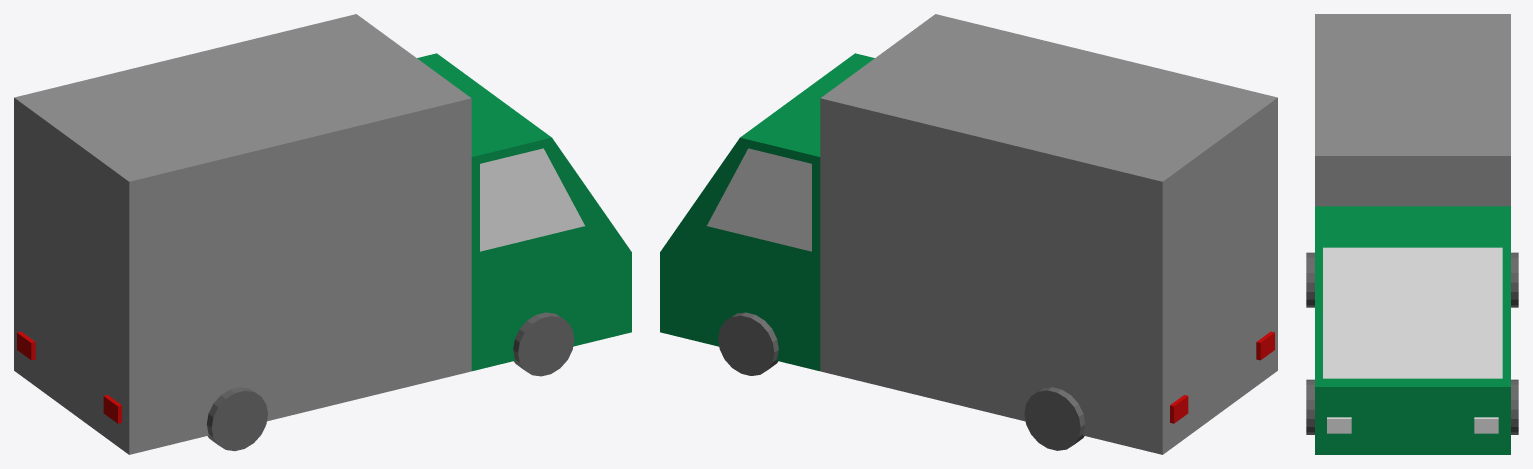
The model's file is Green Truck.fbx.
3 renders of one model, left to right at view 1: azimuth 30°, elevation 25°; view 2: azimuth 150°, elevation 25°; view 3: azimuth 270°, elevation 25°, orthographic. The views are drawn at different scales.
Parts seen in each view (by area): view 1: Truck; view 2: Truck; view 3: Truck.
Boxes of the visible parts, x1,y1,x2,y2 form: Truck: (14, 14, 631, 454); Truck: (660, 14, 1277, 454); Truck: (1306, 14, 1518, 454).
Bounding box in the file's own units: 12272 × 6663 × 5185.
